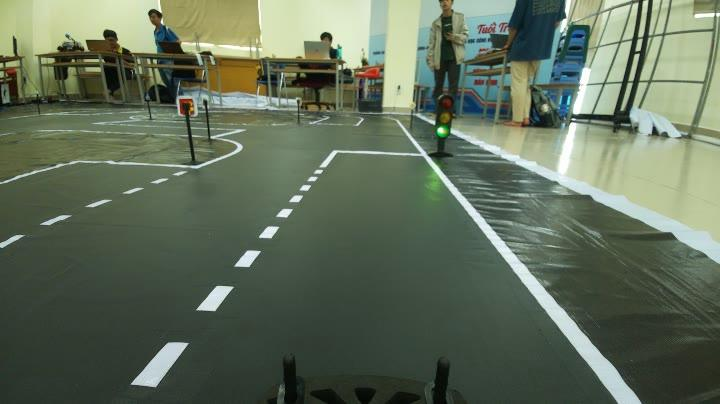trafficlight: (420, 85, 462, 172)
